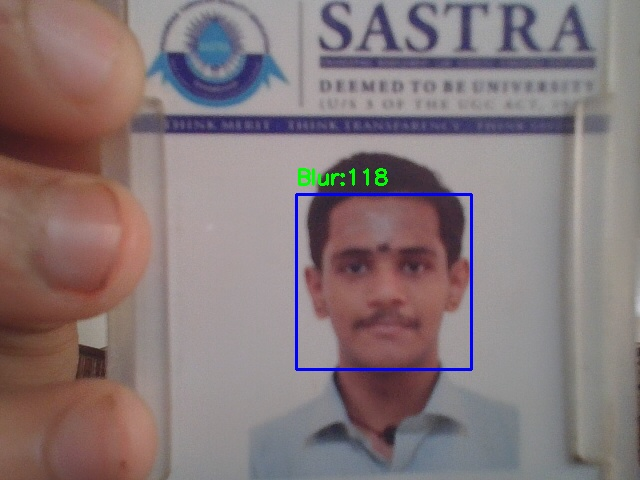fake: (296, 194, 471, 369)
